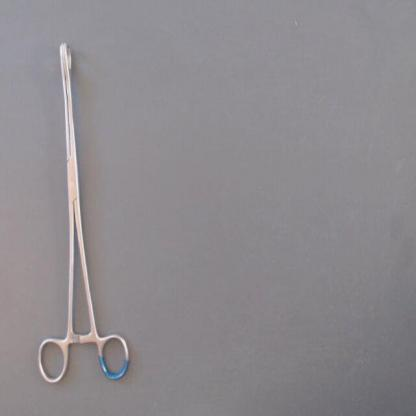Sponge Forceps: (32, 36, 133, 392)
